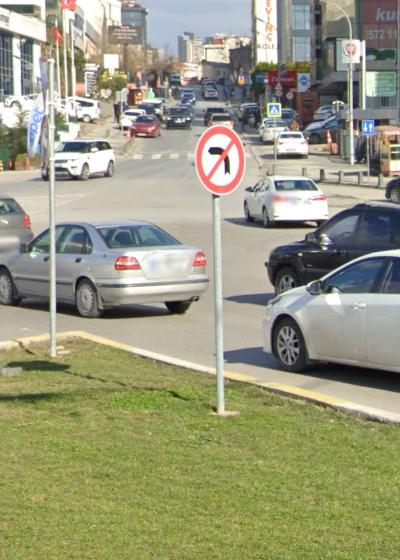leftturnsareforbidden: (197, 126, 248, 195)
